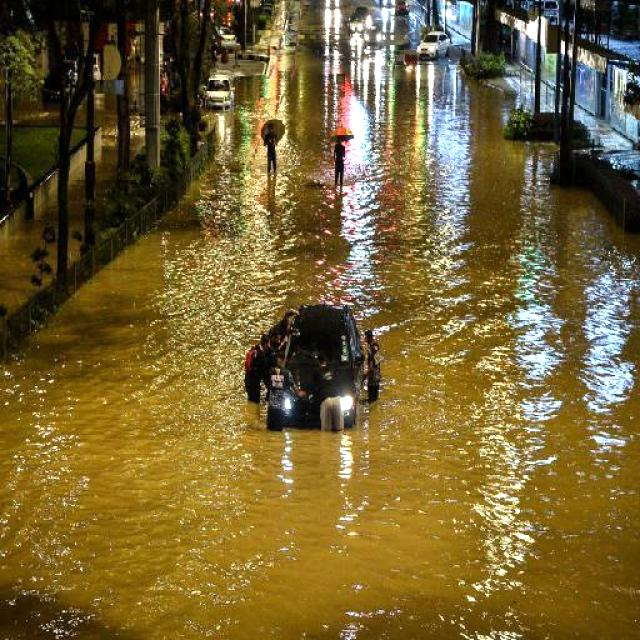civilian: (295, 354, 348, 444), (264, 348, 304, 438), (240, 330, 279, 410), (251, 114, 291, 179), (320, 130, 356, 202), (361, 342, 388, 416), (358, 321, 384, 378), (262, 325, 286, 369), (275, 308, 299, 344)
